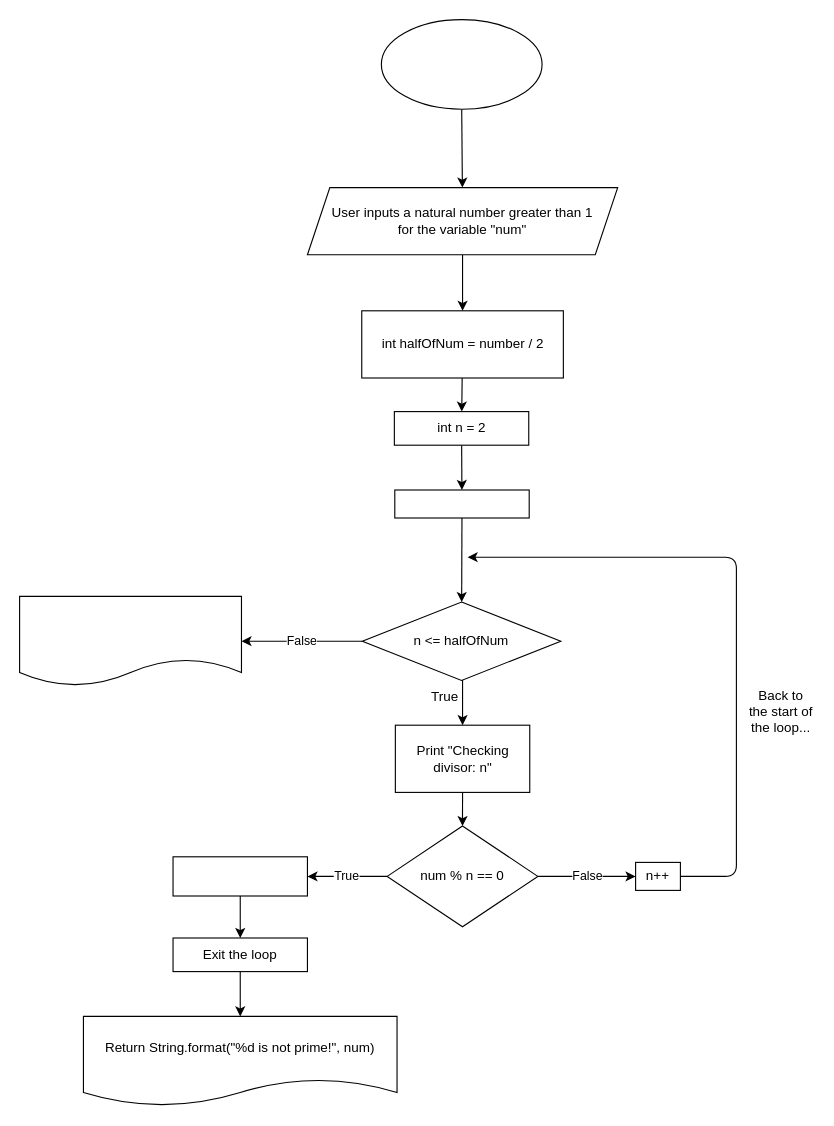
This 834x1126 diagram has some shape labels left out. Here are the shapes that lost their labels. From the top down, the centre of each, then its label:
the point at 461,63: START
the point at 461,503: String res = true
the point at 129,640: Return String.format("%d is prime!", num)
the point at 239,876: res = false
